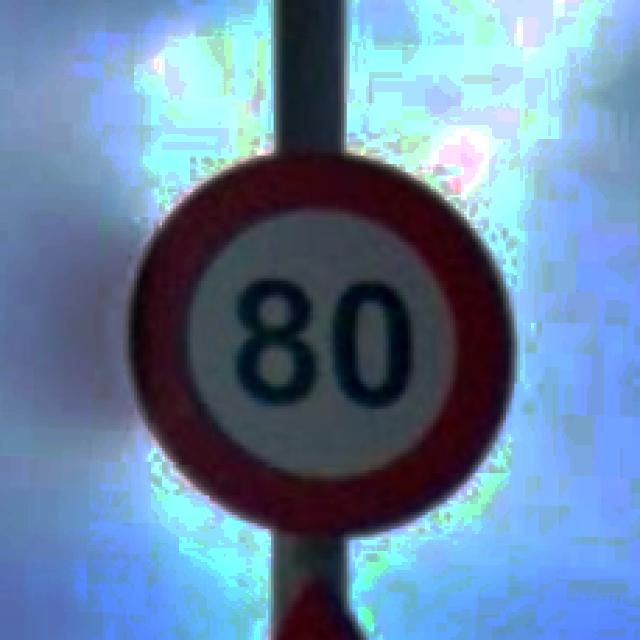max80: (123, 145, 514, 537)
